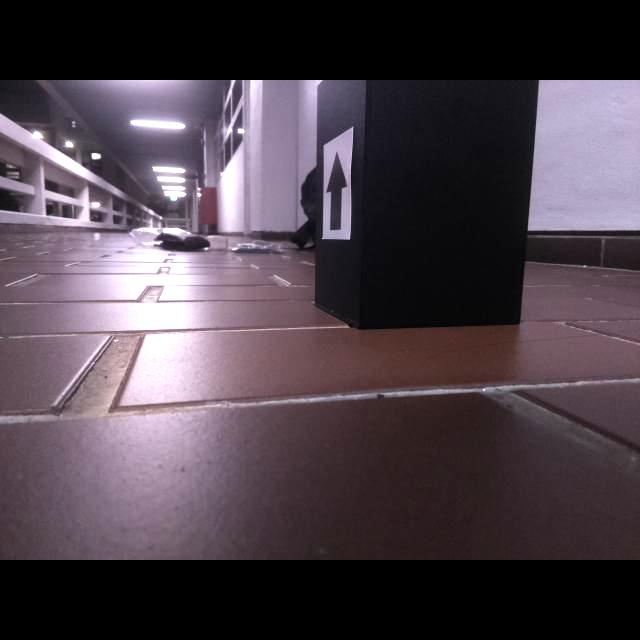UP: (326, 150, 348, 231)
